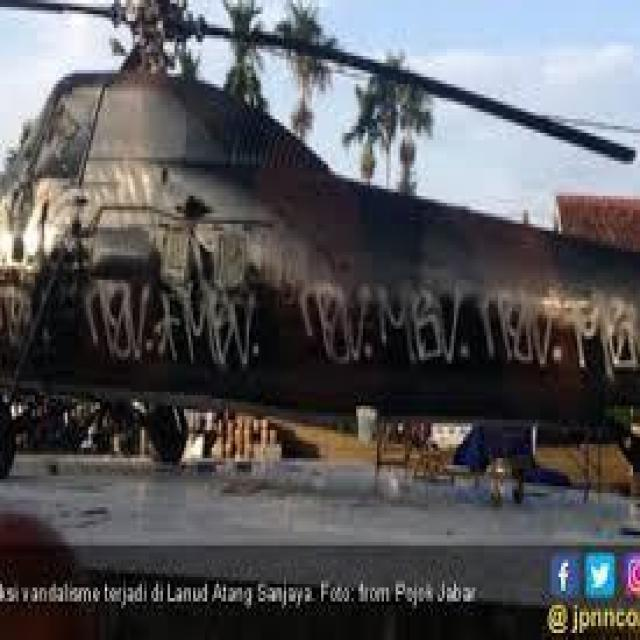nonspitting: (300, 272, 640, 370), (84, 276, 264, 371)
